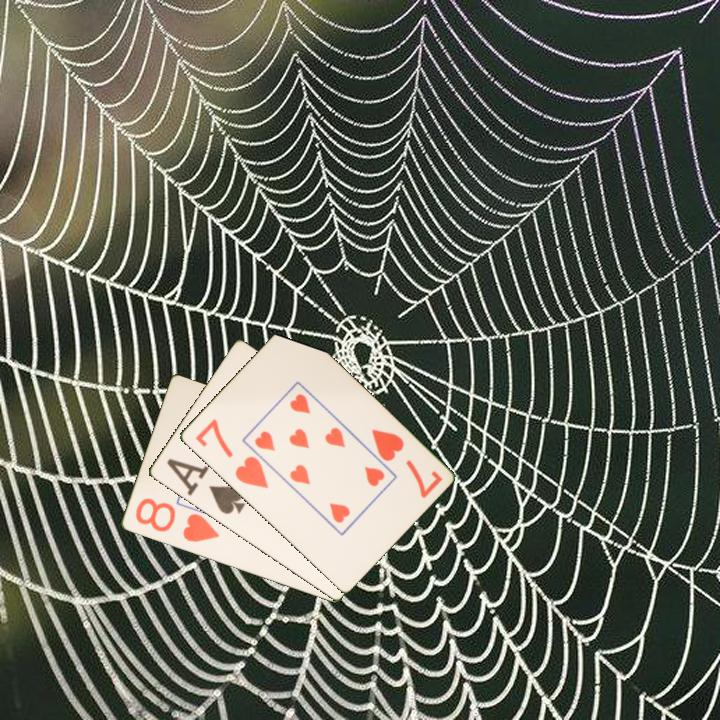7h: (191, 415, 271, 491), (368, 425, 445, 501)
8h: (131, 494, 222, 545)
As: (171, 461, 248, 517)
